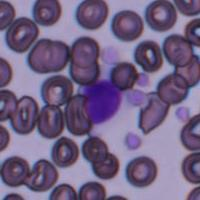L: (82, 76, 127, 127)
